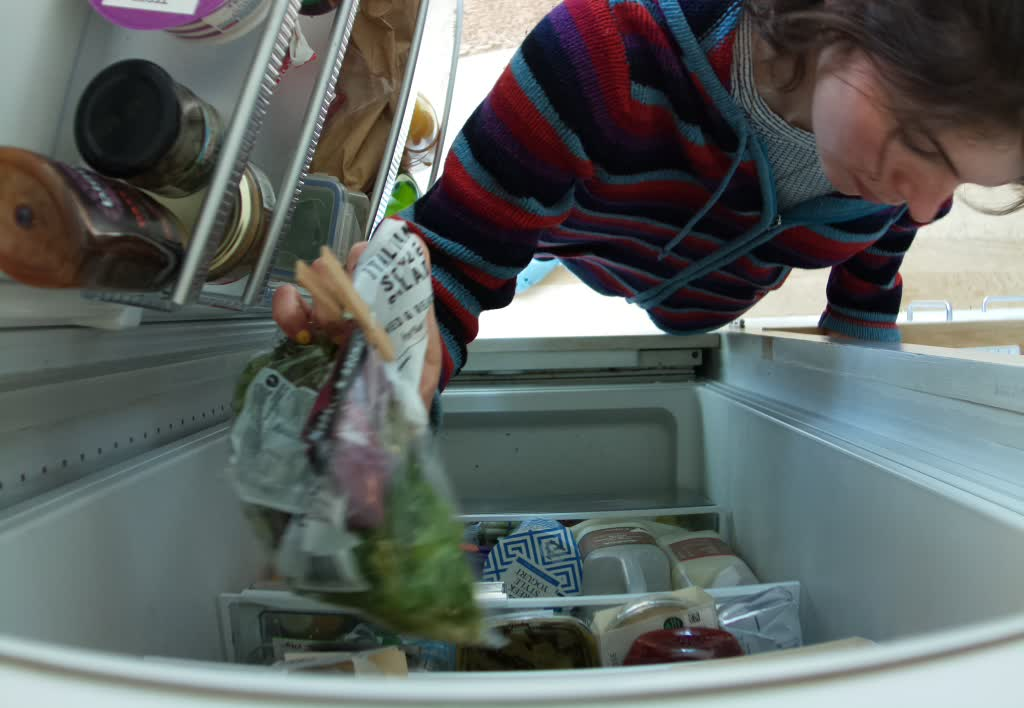salad: (233, 215, 487, 650)
